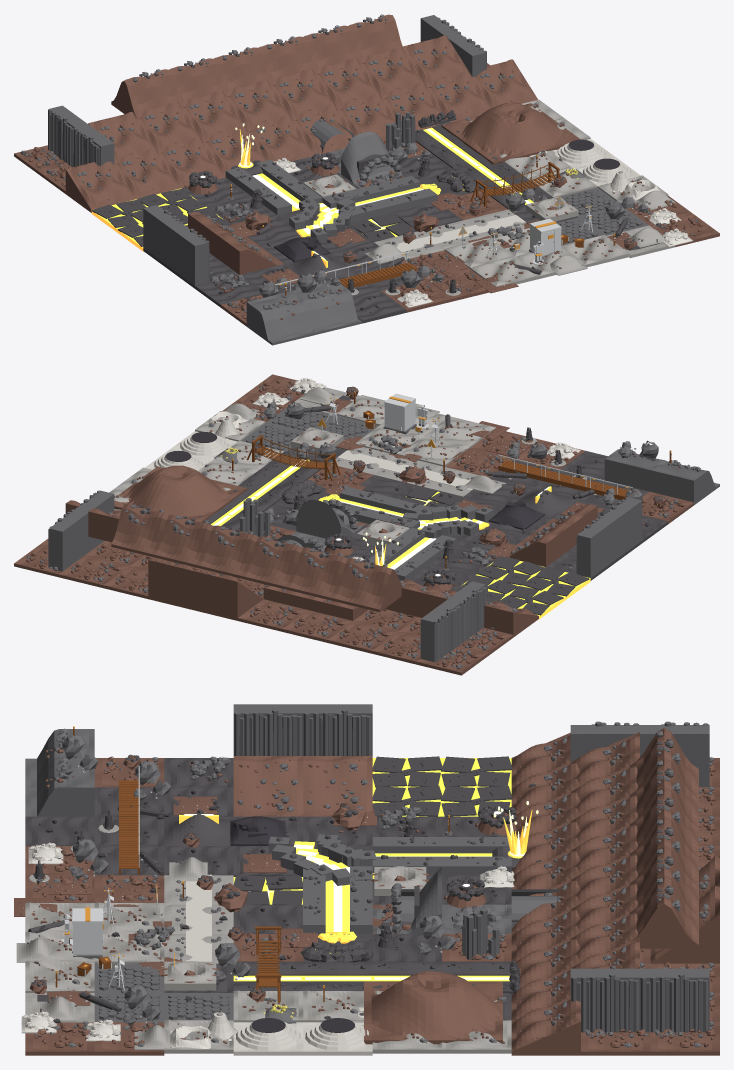
The model's file is Emberlands.glb.
The picture shows the model from 3 angles, top to bottom: view 1: azimuth 30°, elevation 25°; view 2: azimuth 150°, elevation 25°; view 3: azimuth 270°, elevation 25°; orthographic projection. The views are drawn at different scales.
Visible parts, largest first — view 1: 128-volcano-and-lava-fields-scoria-cone/0, 060-volcano-and-lava-fields-ravine-edge-module/0, 090-volcano-and-lava-fields-cone-flank-module-medium/0, 208-volcano-and-lava-fields-lava-tube-mouth/0, 061-volcano-and-lava-fields-ravine-edge-module/0, 108-volcano-and-lava-fields-crater-rim-section/0, 219-volcano-and-lava-fields-cliff-face-module/0, 091-volcano-and-lava-fields-cone-flank-module-medium/0, 107-volcano-and-lava-fields-cone-flank-module-medium/0, 098-volcano-and-lava-fields-cone-flank-module-medium/0, 094-volcano-and-lava-fields-cone-flank-module-medium/0, 099-volcano-and-lava-fields-cone-flank-module-medium/0 (+73 smaller); view 2: 128-volcano-and-lava-fields-scoria-cone/0, 108-volcano-and-lava-fields-crater-rim-section/0, 085-volcano-and-lava-fields-cone-flank-module-steep/0, 115-volcano-and-lava-fields-cliff-face-module/0, 060-volcano-and-lava-fields-ravine-edge-module/0, 111-volcano-and-lava-fields-crater-rim-section/0, 110-volcano-and-lava-fields-crater-rim-section/0, 112-volcano-and-lava-fields-crater-rim-section/0, 113-volcano-and-lava-fields-crater-rim-section/0, 109-volcano-and-lava-fields-crater-rim-section/0, 218-volcano-and-lava-fields-cliff-face-module/0, 117-volcano-and-lava-fields-cliff-face-module/0 (+74 smaller); view 3: 128-volcano-and-lava-fields-scoria-cone/0, 117-volcano-and-lava-fields-cliff-face-module/0, 116-volcano-and-lava-fields-cliff-face-module/0, 031-volcano-and-lava-fields-talus-slope-module/0, 021-volcano-and-lava-fields-talus-slope-module/0, 219-volcano-and-lava-fields-cliff-face-module/0, 218-volcano-and-lava-fields-cliff-face-module/0, 113-volcano-and-lava-fields-crater-rim-section/0, 099-volcano-and-lava-fields-cone-flank-module-medium/0, 061-volcano-and-lava-fields-ravine-edge-module/0, 023-volcano-and-lava-fields-lava-flow-channel-curve/3, 208-volcano-and-lava-fields-lava-tube-mouth/0 (+129 smaller).
Part boxes in pixels (x1,y1,x2,y2): 128-volcano-and-lava-fields-scoria-cone/0: [441, 102, 580, 164]; 060-volcano-and-lava-fields-ravine-edge-module/0: [246, 291, 317, 345]; 090-volcano-and-lava-fields-cone-flank-module-medium/0: [65, 161, 135, 212]; 208-volcano-and-lava-fields-lava-tube-mouth/0: [341, 131, 403, 188]; 061-volcano-and-lava-fields-ravine-edge-module/0: [291, 281, 361, 334]; 108-volcano-and-lava-fields-crater-rim-section/0: [111, 69, 181, 118]; 219-volcano-and-lava-fields-cliff-face-module/0: [169, 224, 215, 285]; 091-volcano-and-lava-fields-cone-flank-module-medium/0: [114, 146, 180, 198]; 107-volcano-and-lava-fields-cone-flank-module-medium/0: [403, 35, 467, 87]; 098-volcano-and-lava-fields-cone-flank-module-medium/0: [428, 70, 491, 122]; 094-volcano-and-lava-fields-cone-flank-module-medium/0: [249, 114, 313, 162]; 099-volcano-and-lava-fields-cone-flank-module-medium/0: [472, 59, 537, 107]; 128-volcano-and-lava-fields-scoria-cone/0: [114, 465, 246, 522]; 108-volcano-and-lava-fields-crater-rim-section/0: [335, 558, 402, 612]; 085-volcano-and-lava-fields-cone-flank-module-steep/0: [193, 571, 263, 620]; 115-volcano-and-lava-fields-cliff-face-module/0: [420, 600, 468, 662]; 060-volcano-and-lava-fields-ravine-edge-module/0: [649, 460, 719, 504]; 111-volcano-and-lava-fields-crater-rim-section/0: [200, 525, 257, 579]; 110-volcano-and-lava-fields-crater-rim-section/0: [245, 536, 302, 590]; 112-volcano-and-lava-fields-crater-rim-section/0: [156, 514, 213, 568]; 113-volcano-and-lava-fields-crater-rim-section/0: [111, 503, 168, 557]; 109-volcano-and-lava-fields-crater-rim-section/0: [290, 547, 347, 601]; 218-volcano-and-lava-fields-cliff-face-module/0: [568, 516, 616, 577]; 117-volcano-and-lava-fields-cliff-face-module/0: [40, 509, 88, 571]; 128-volcano-and-lava-fields-scoria-cone/0: [364, 971, 502, 1044]; 117-volcano-and-lava-fields-cliff-face-module/0: [640, 968, 709, 1037]; 116-volcano-and-lava-fields-cliff-face-module/0: [570, 968, 639, 1037]; 031-volcano-and-lava-fields-talus-slope-module/0: [233, 756, 303, 816]; 021-volcano-and-lava-fields-talus-slope-module/0: [303, 756, 372, 816]; 219-volcano-and-lava-fields-cliff-face-module/0: [233, 704, 303, 755]; 218-volcano-and-lava-fields-cliff-face-module/0: [303, 704, 372, 755]; 113-volcano-and-lava-fields-crater-rim-section/0: [629, 874, 698, 948]; 099-volcano-and-lava-fields-cone-flank-module-medium/0: [511, 997, 580, 1055]; 061-volcano-and-lava-fields-ravine-edge-module/0: [25, 758, 94, 816]; 023-volcano-and-lava-fields-lava-flow-channel-curve/3: [268, 834, 376, 885]; 208-volcano-and-lava-fields-lava-tube-mouth/0: [372, 867, 441, 933].
Bounding box in the file's own units: 40.06 × 7.09 × 40.65.
12 materials, 4 textured.
